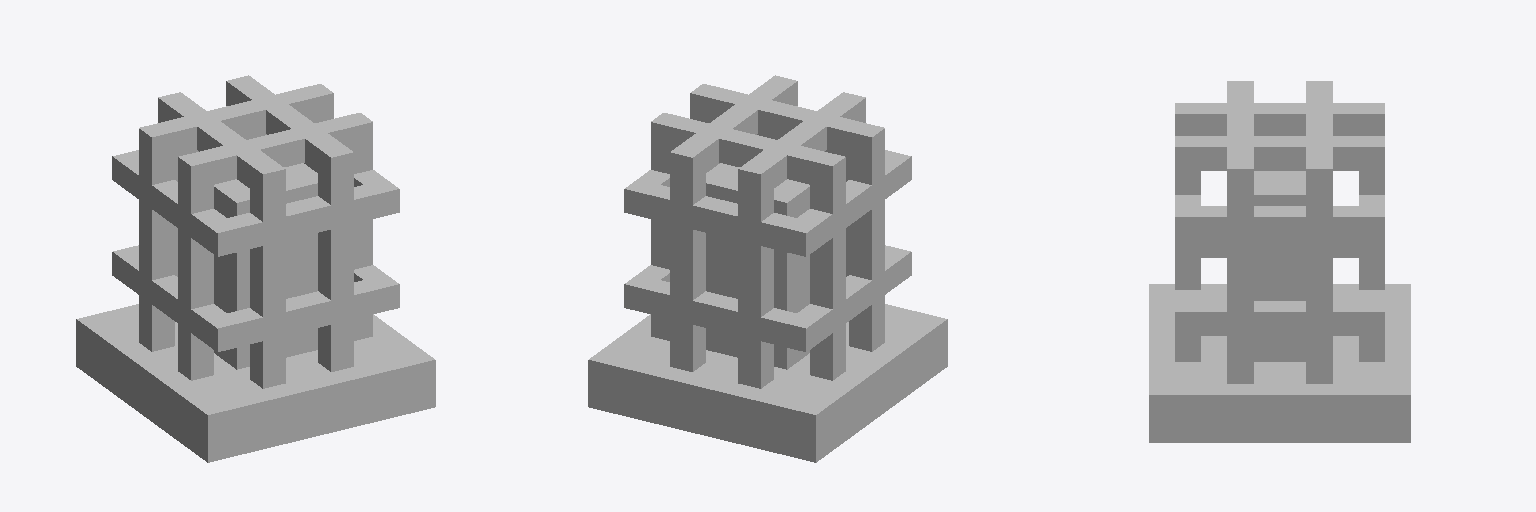
Rendered from cagelamp.obj.
3 renders of one model, left to right at view 1: azimuth 30°, elevation 25°; view 2: azimuth 150°, elevation 25°; view 3: azimuth 270°, elevation 25°, orthographic.
Parts seen in each view (by area): view 1: cube; view 2: cube; view 3: cube.
Part boxes in pixels (bbox=[...]): cube: bbox=[76, 75, 435, 462]; cube: bbox=[588, 75, 947, 462]; cube: bbox=[1149, 81, 1410, 442].
Size of the model in its own units: 0.625 by 0.6875 by 0.625.